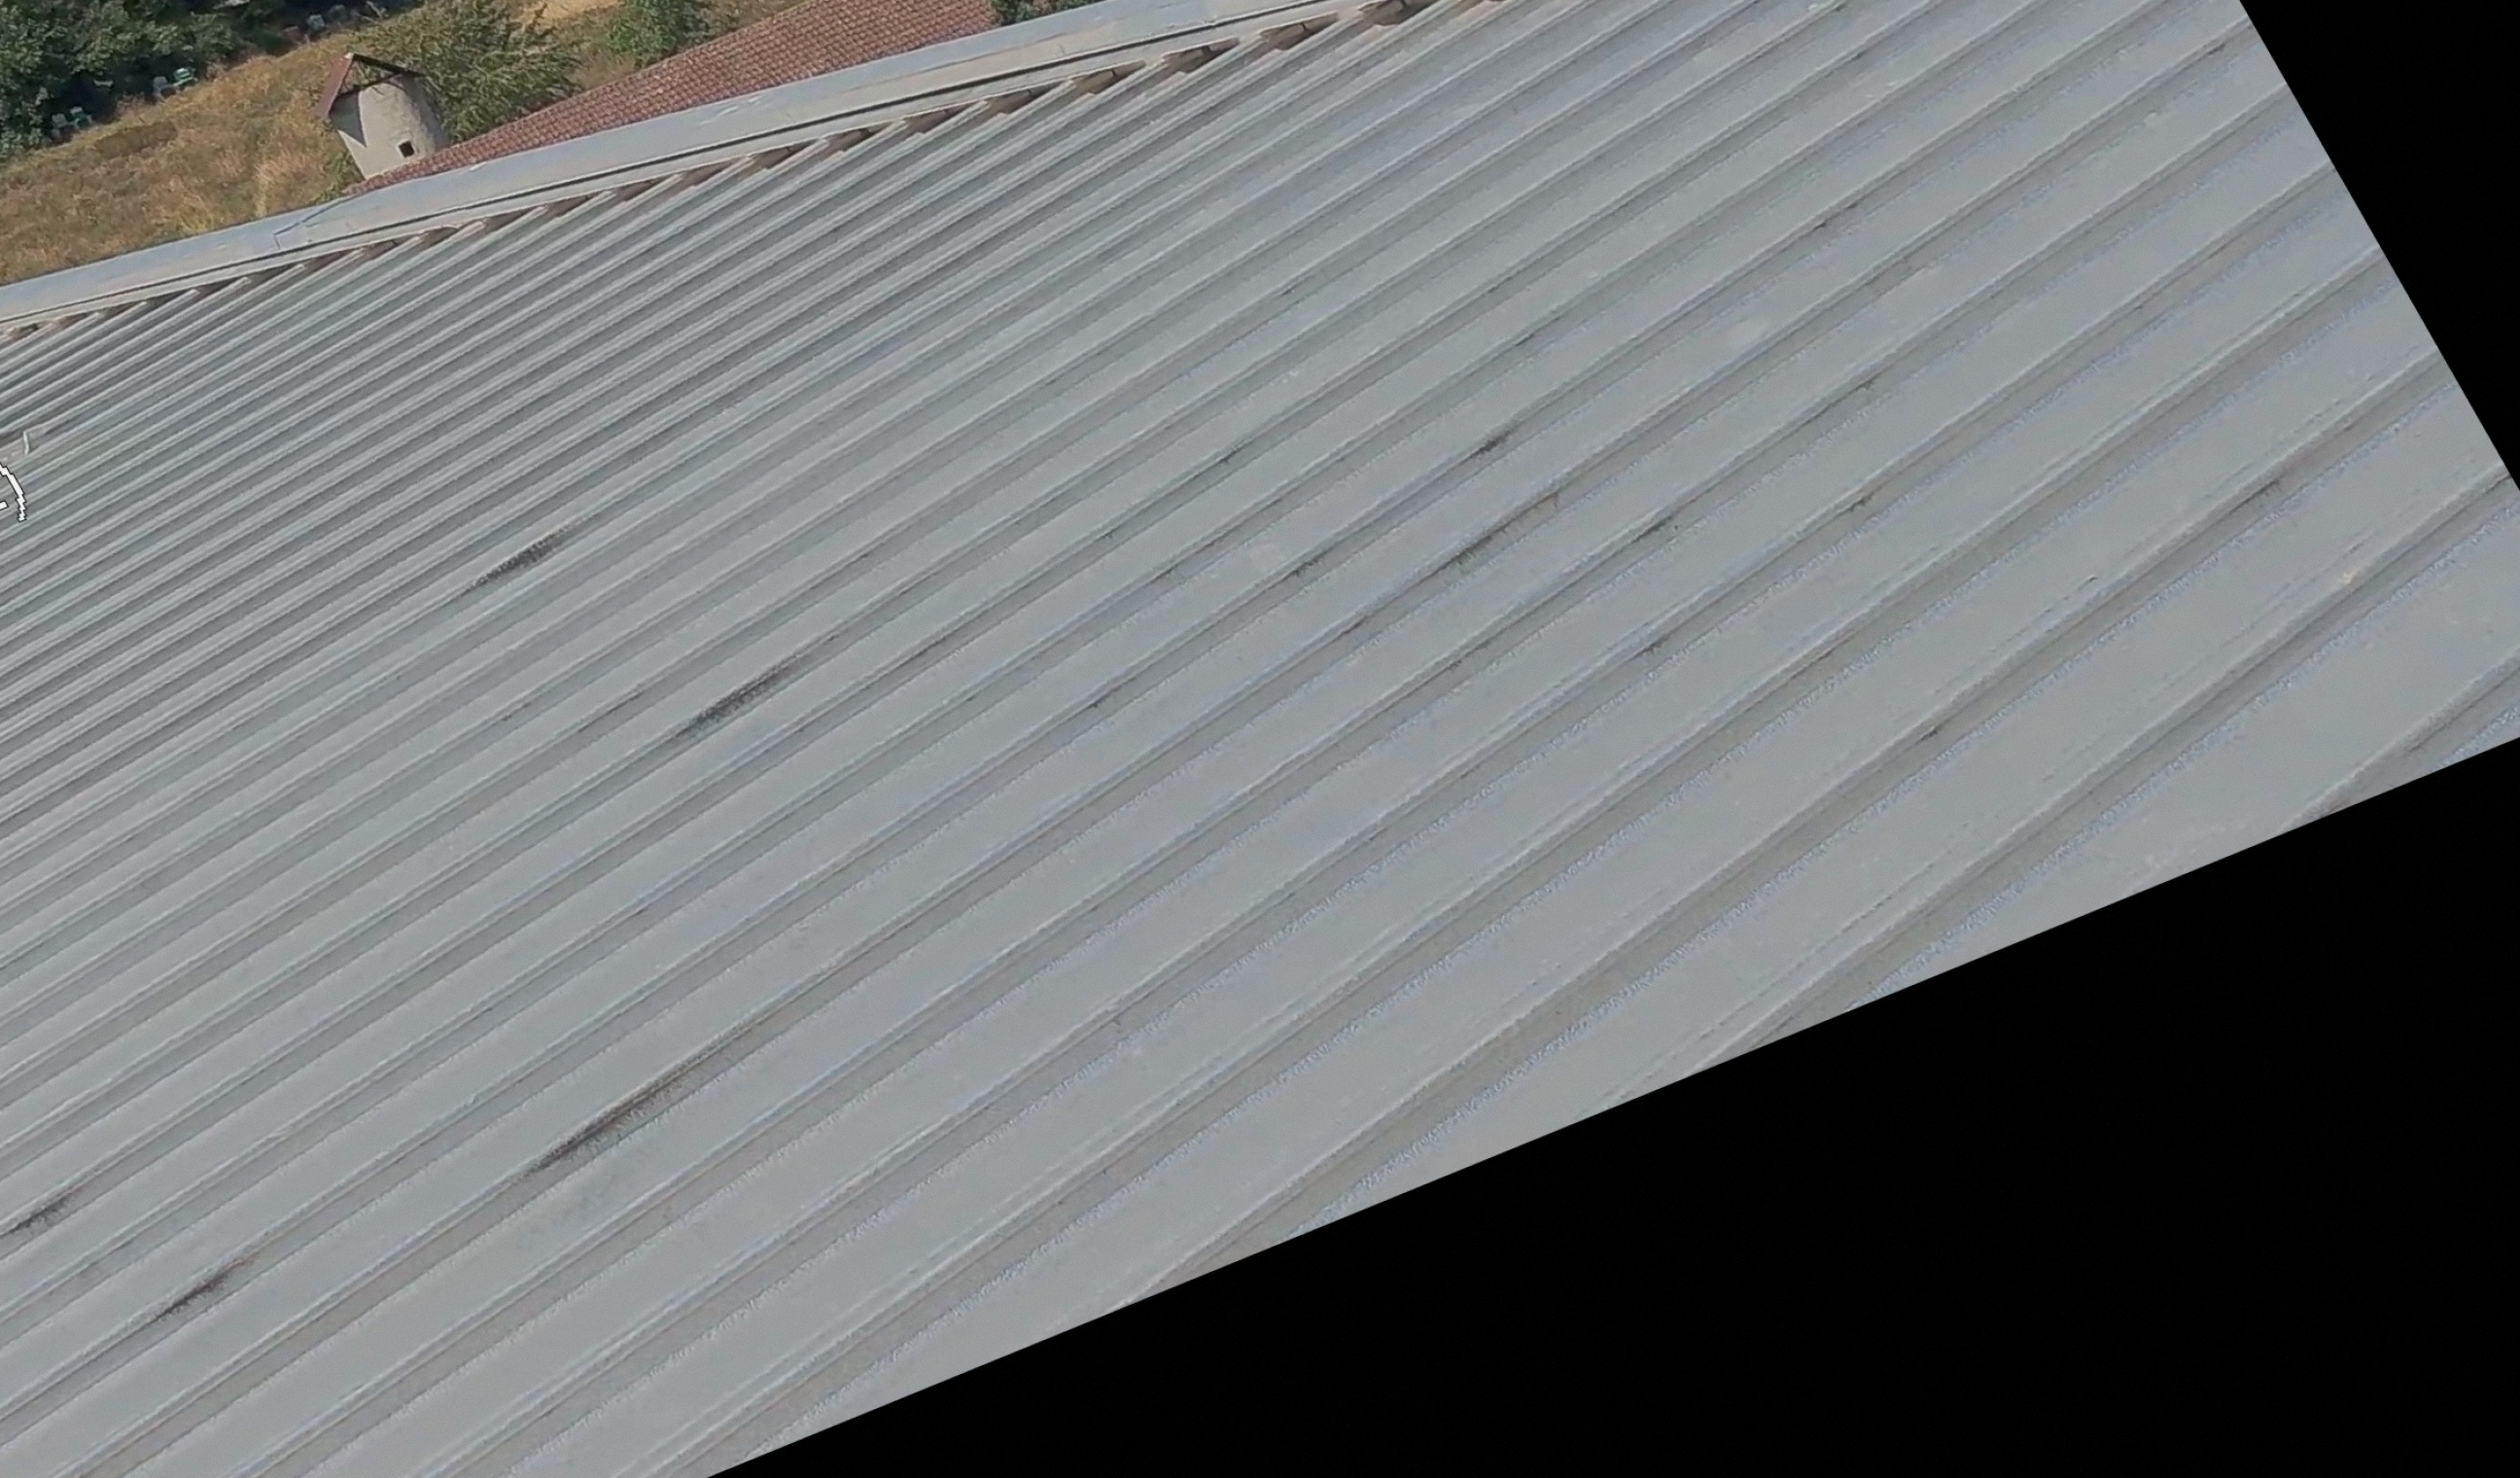Other: (274, 5, 475, 201)
